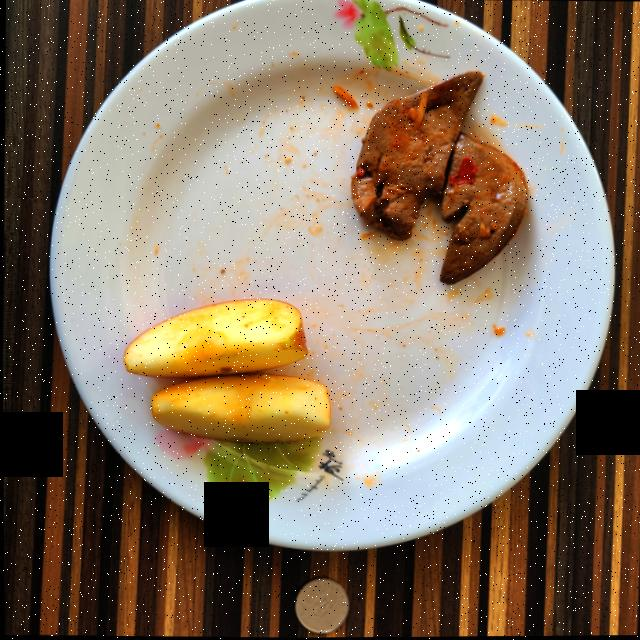apple -sliced-: (123, 299, 330, 443)
coin: (293, 578, 348, 633)
pig liver: (351, 71, 527, 284)
